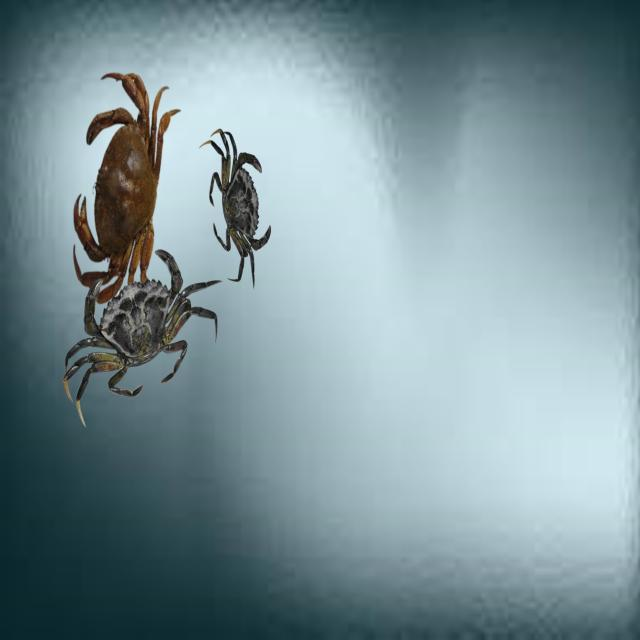European_Green_Crab: (43, 232, 227, 419), (195, 118, 279, 300)
